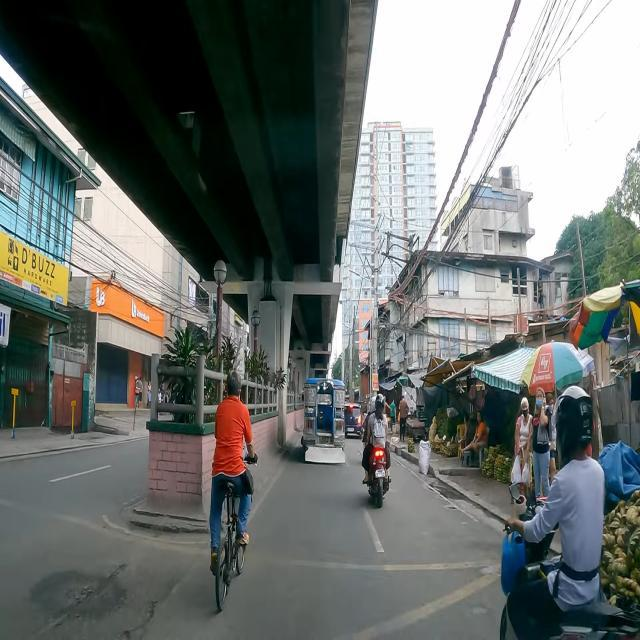bike: (210, 368, 257, 616)
car: (344, 403, 362, 438)
jeepney: (300, 378, 346, 464)
motorcycle: (498, 382, 640, 640), (362, 395, 392, 509)
